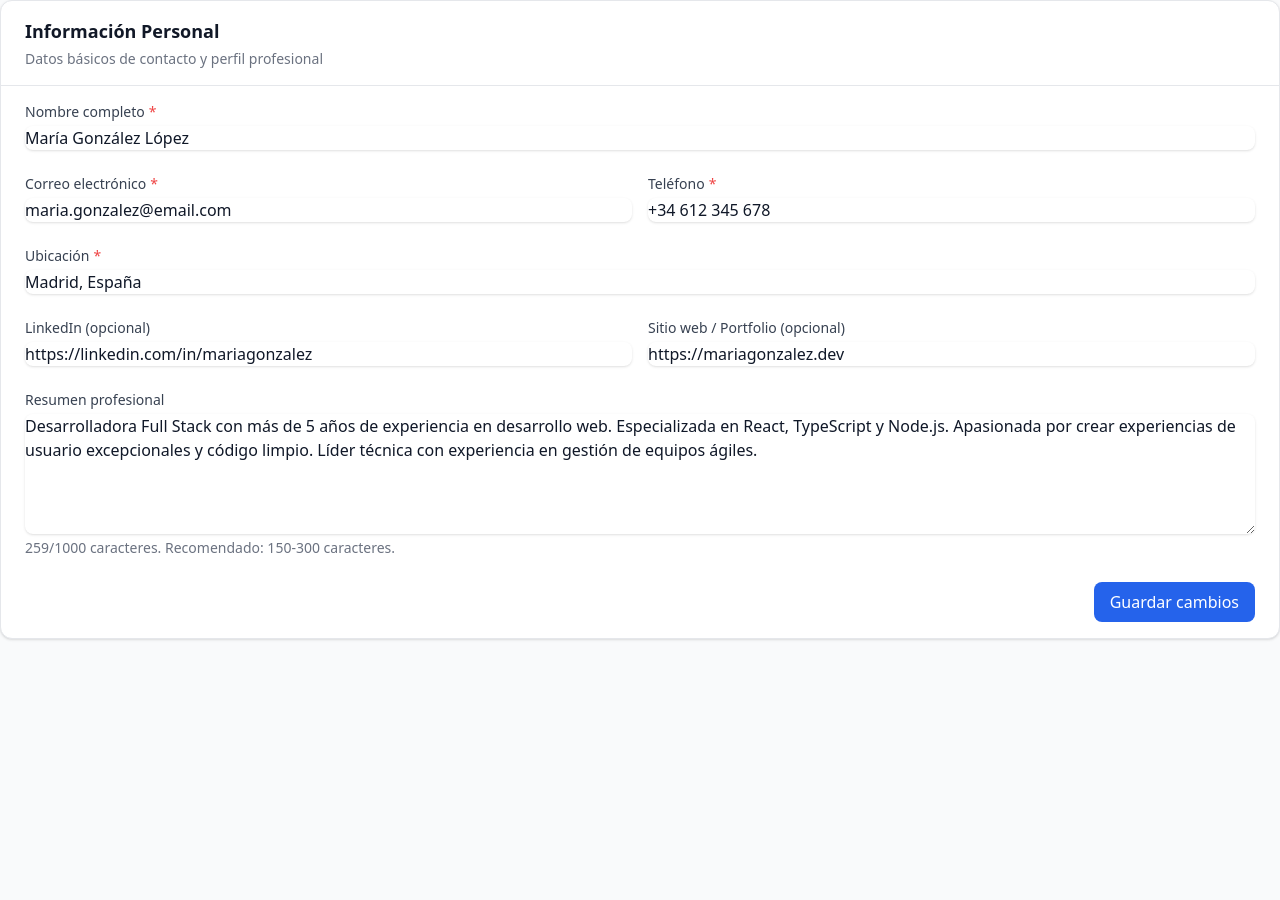
Scenario: PersonalInfoForm Validation › muestra error cuando el teléfono es muy corto
Type "123" into the field labelled "Teléfono*" at (952, 210), box [648,198,1255,222]
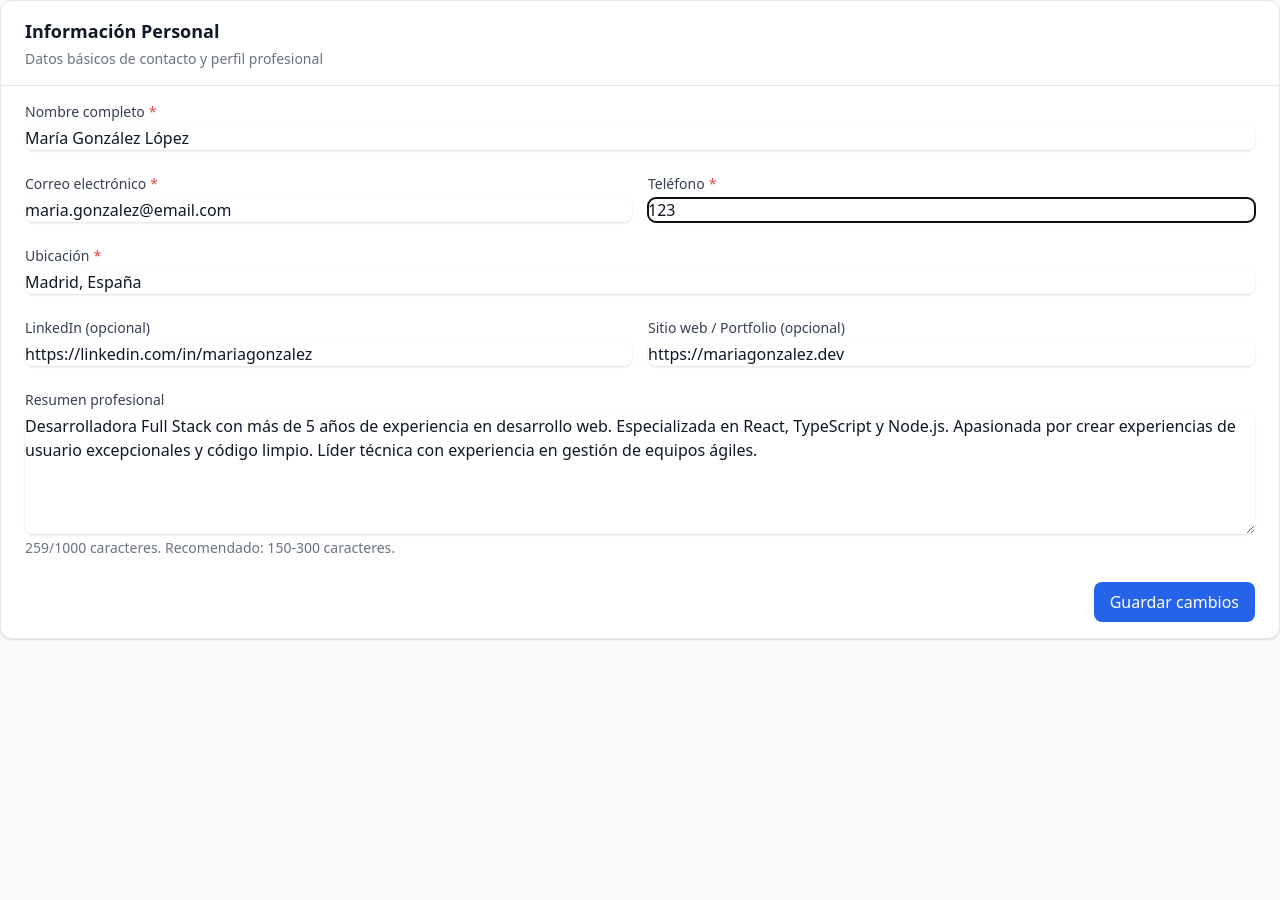
Press Tab
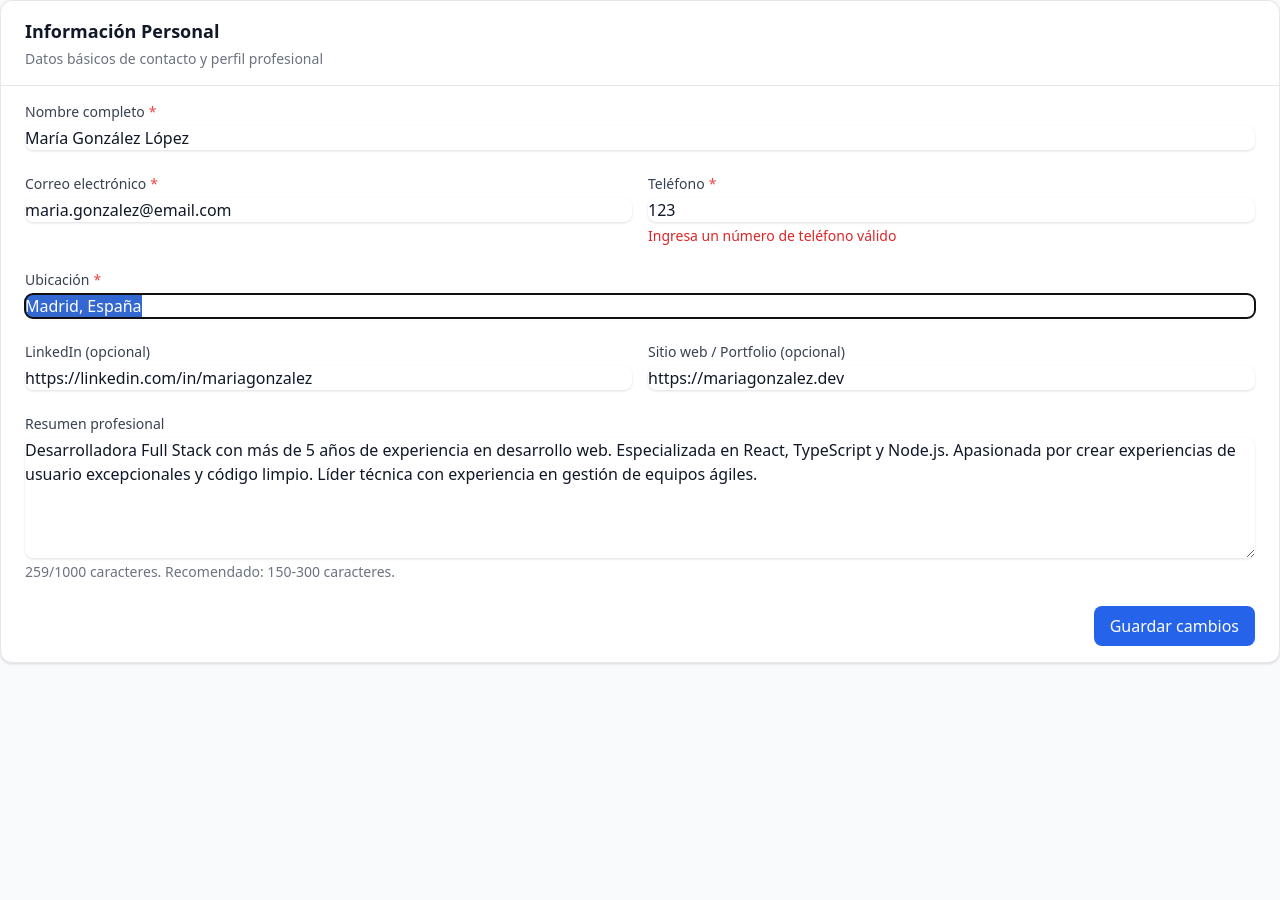
Expected: the message shows "teléfono válido", [648,226,896,245]
